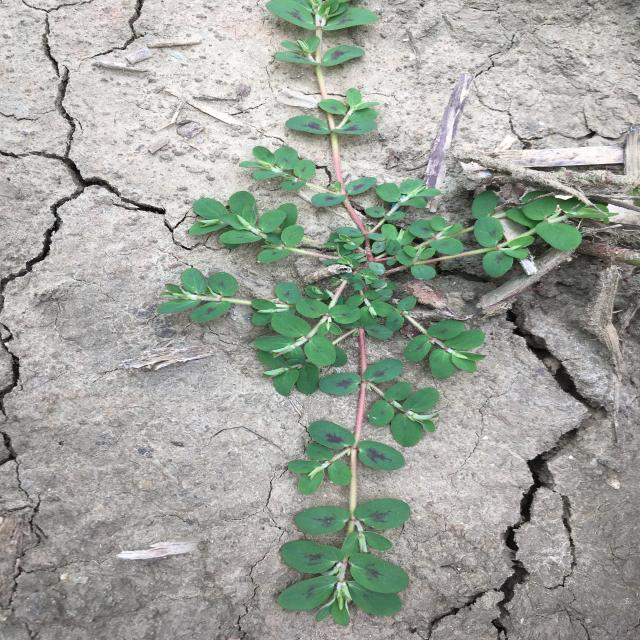SpottedSpurge: (158, 0, 620, 626)
